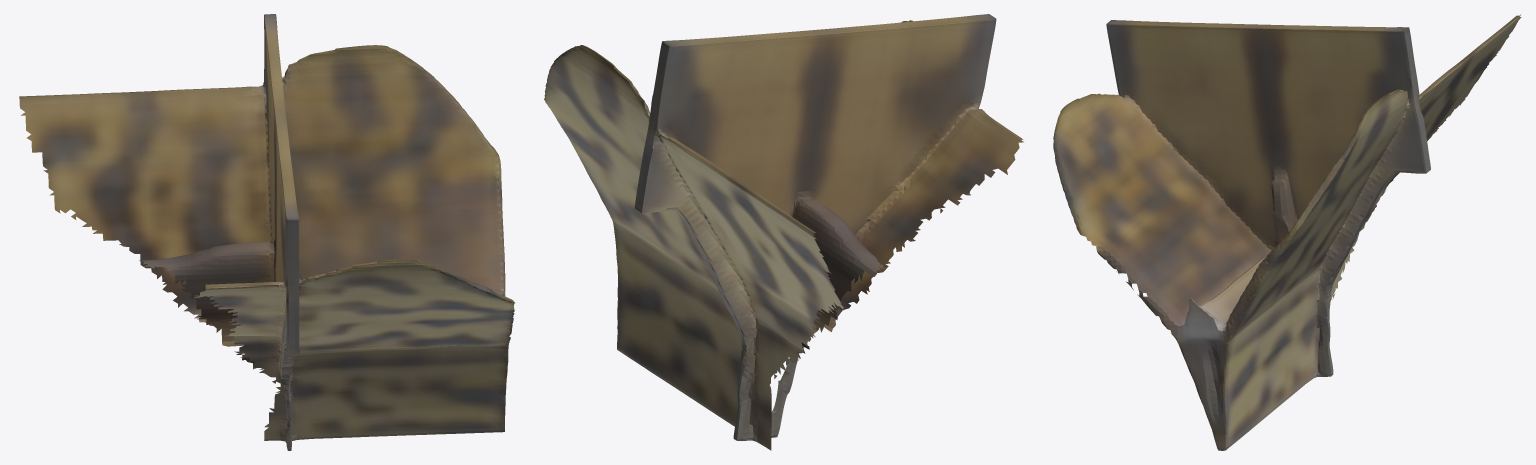
File: guard-right-initializer.glb
3 renders of one model, left to right at view 1: azimuth 30°, elevation 25°; view 2: azimuth 150°, elevation 25°; view 3: azimuth 270°, elevation 25°, orthographic. The views are drawn at different scales.
Visible parts, largest first — view 1: geometry_0; view 2: geometry_0; view 3: geometry_0.
Part boxes in pixels (<box>): geometry_0: <box>19,14,514,450</box>; geometry_0: <box>544,14,1023,450</box>; geometry_0: <box>1053,14,1521,450</box>.
Bounding box in the file's own units: 1.08 × 1.09 × 1.27.
